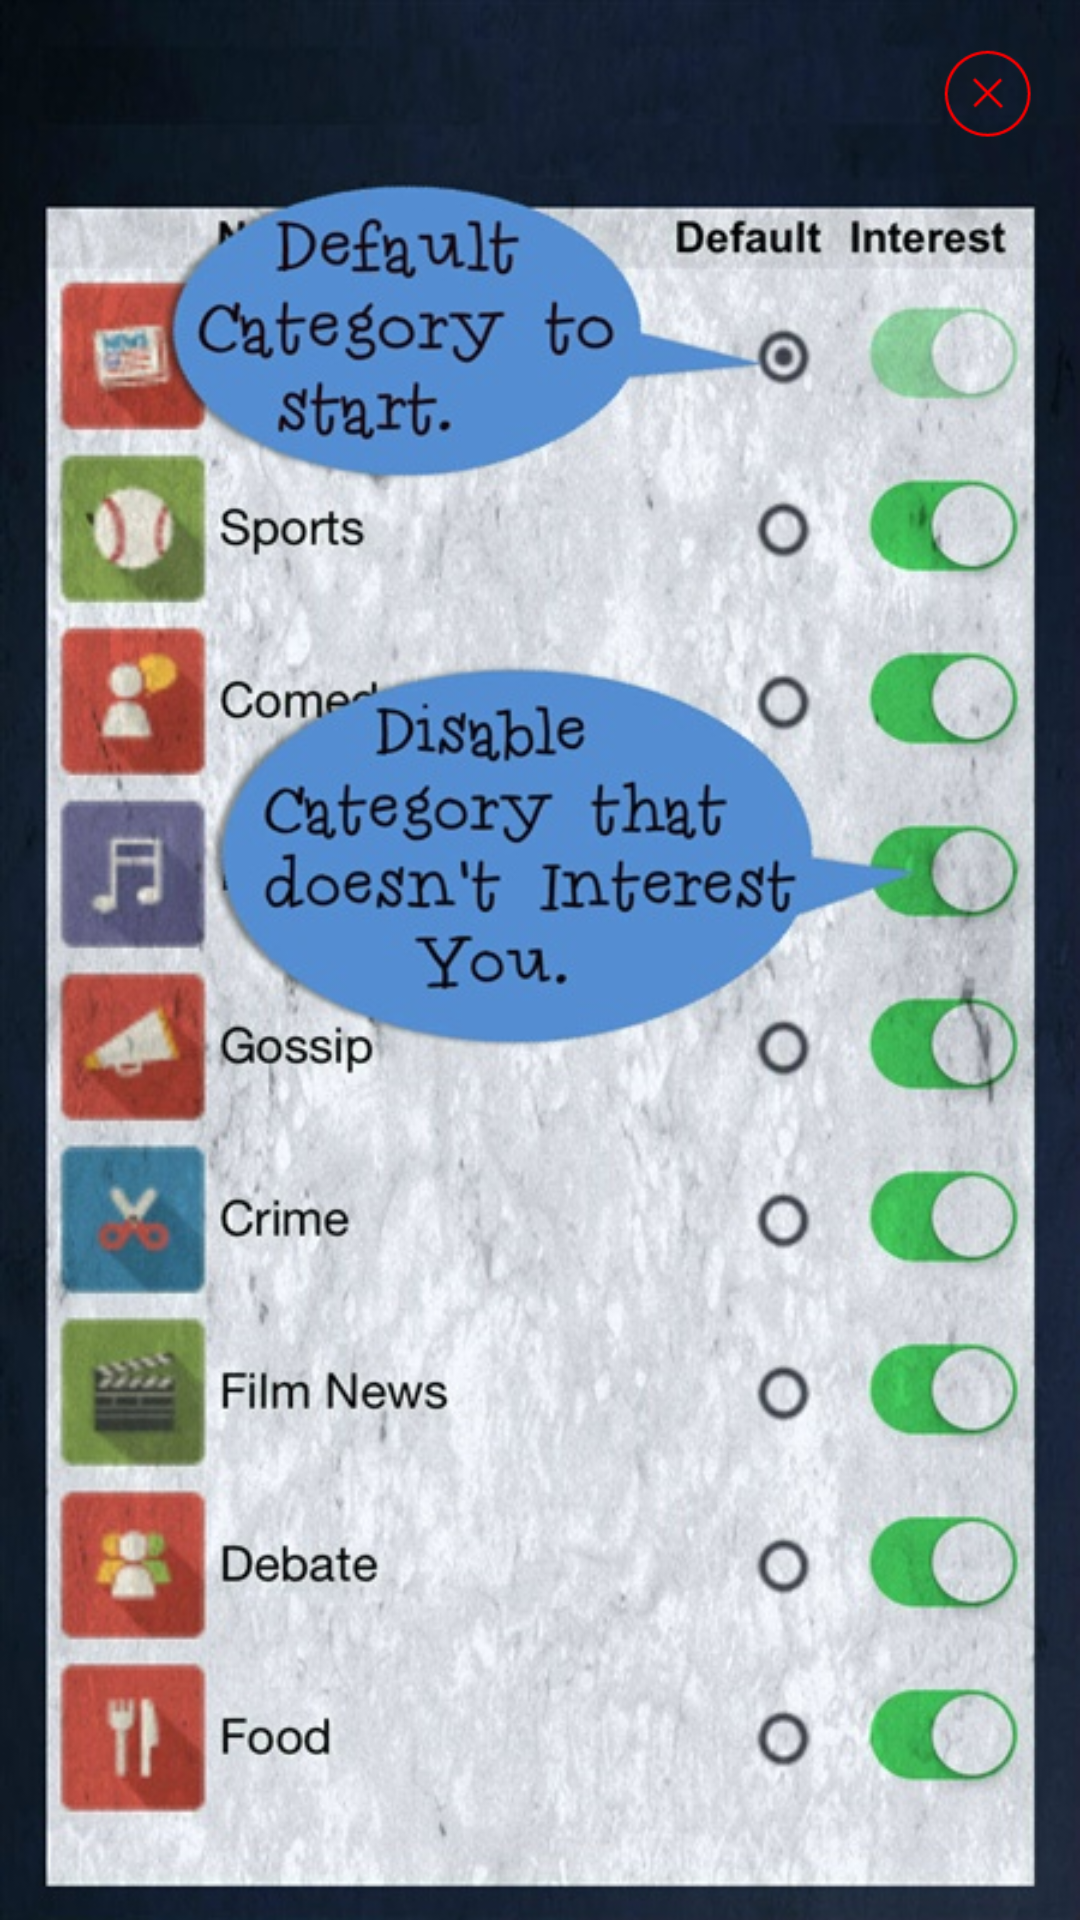

Icon bounding boxes for this 1080x1920 phone screenshot, format (x1, y1, x2, y2):
exit: (944, 50, 1031, 137)
